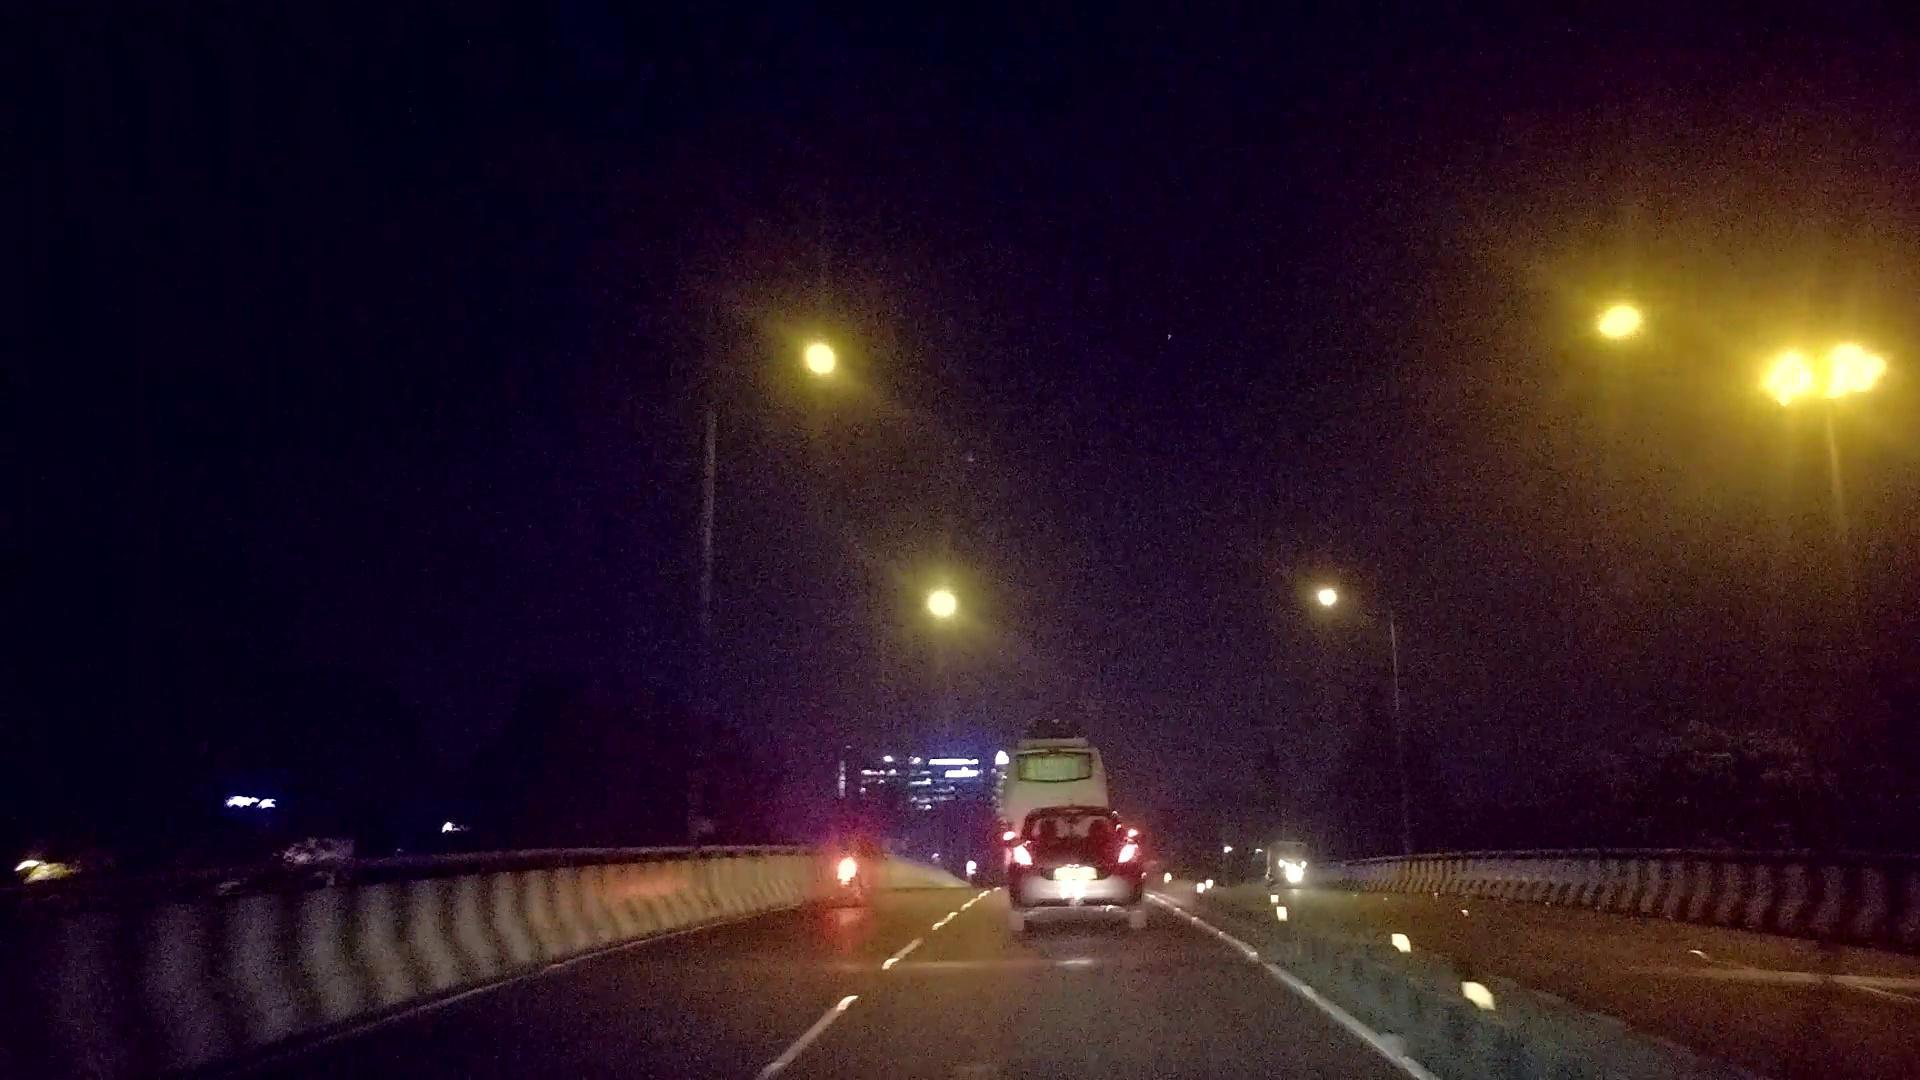on: (680, 252, 1143, 644), (1520, 212, 1920, 506)
